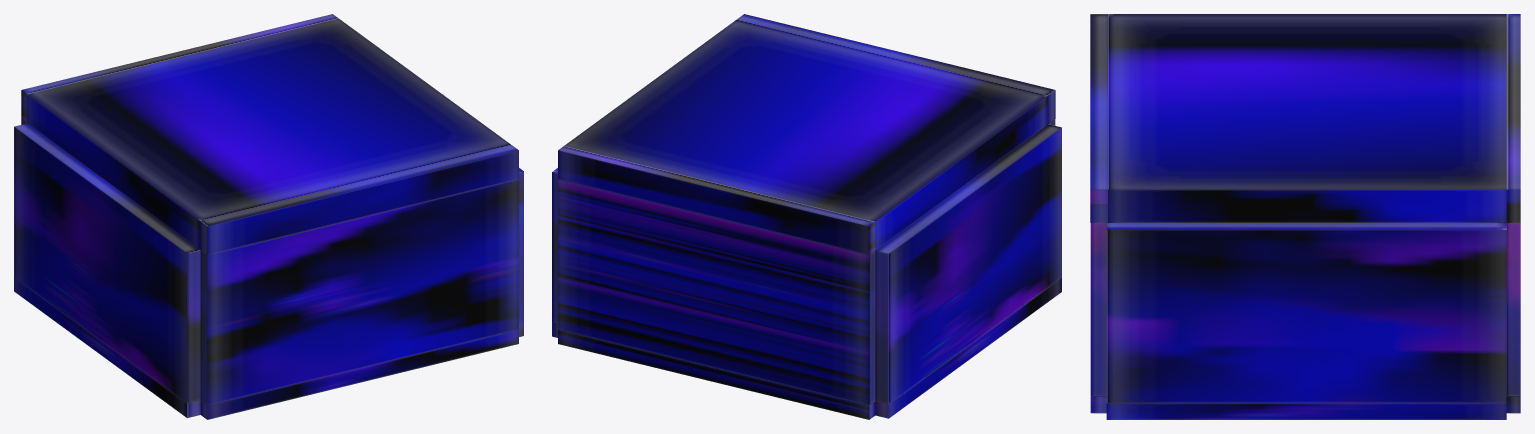
The model's file is Room_Two.fbx.
3 renders of one model, left to right at view 1: azimuth 30°, elevation 25°; view 2: azimuth 150°, elevation 25°; view 3: azimuth 270°, elevation 25°, orthographic. The views are drawn at different scales.
Parts seen in each view (by area): view 1: Room; view 2: Room; view 3: Room.
Boxes of the visible parts, left/top/right/bottom form: Room: left=14, top=14, right=523, bottom=419; Room: left=552, top=14, right=1061, bottom=419; Room: left=1090, top=14, right=1520, bottom=419.
Size of the model in its own units: 1350 by 742 by 1294.
1 material, 1 textured.
